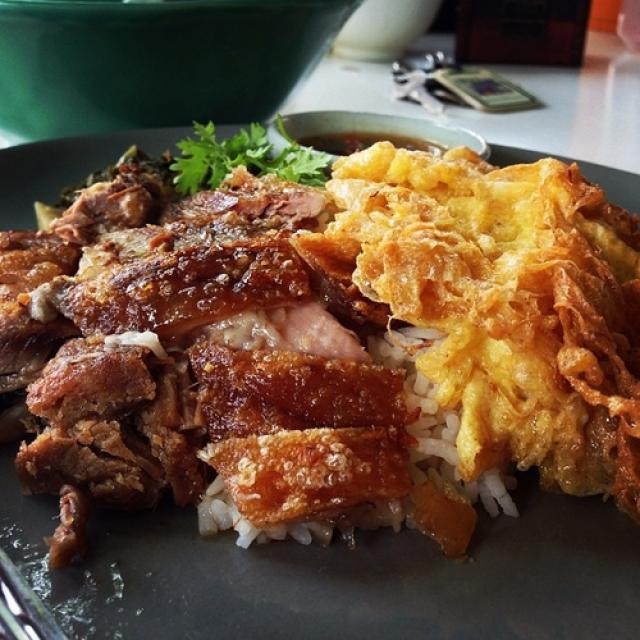猪肉菜式: (0, 116, 630, 589)
